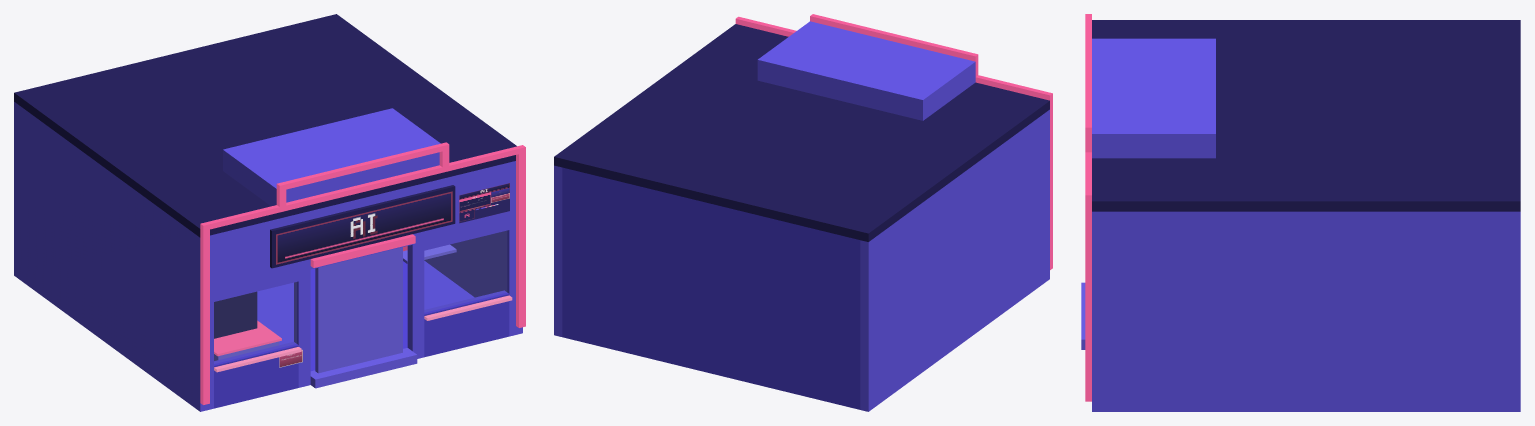
The model's file is plot.glb.
3 renders of one model, left to right at view 1: azimuth 30°, elevation 25°; view 2: azimuth 150°, elevation 25°; view 3: azimuth 270°, elevation 25°, orthographic. The views are drawn at different scales.
Visible parts, largest first — view 1: facade, neon, sign_1, door_panel_L, door_panel_R, pic_1, lintel; view 2: facade, neon; view 3: facade, neon.
Part boxes in pixels (x1,y1,x2,y2): facade: [14, 14, 522, 411]; neon: [200, 142, 525, 404]; sign_1: [276, 191, 452, 264]; door_panel_L: [315, 257, 360, 373]; door_panel_R: [360, 247, 402, 362]; pic_1: [459, 183, 509, 223]; lintel: [310, 234, 415, 267]; facade: [554, 21, 1049, 411]; neon: [735, 14, 1052, 269]; facade: [1081, 20, 1520, 411]; neon: [1085, 14, 1091, 401].
Bounding box in the file's own units: 9.5 × 5.9 × 9.74.
Materials: 4 (3 with a texture image).
